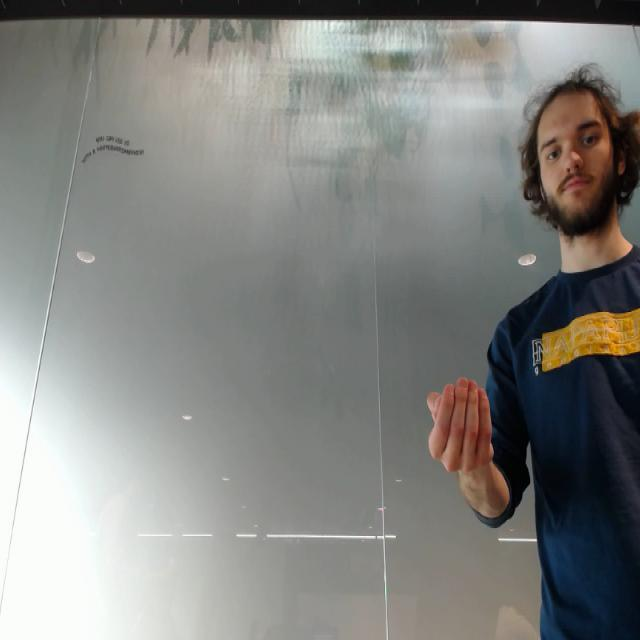forward: (422, 371, 500, 480)
